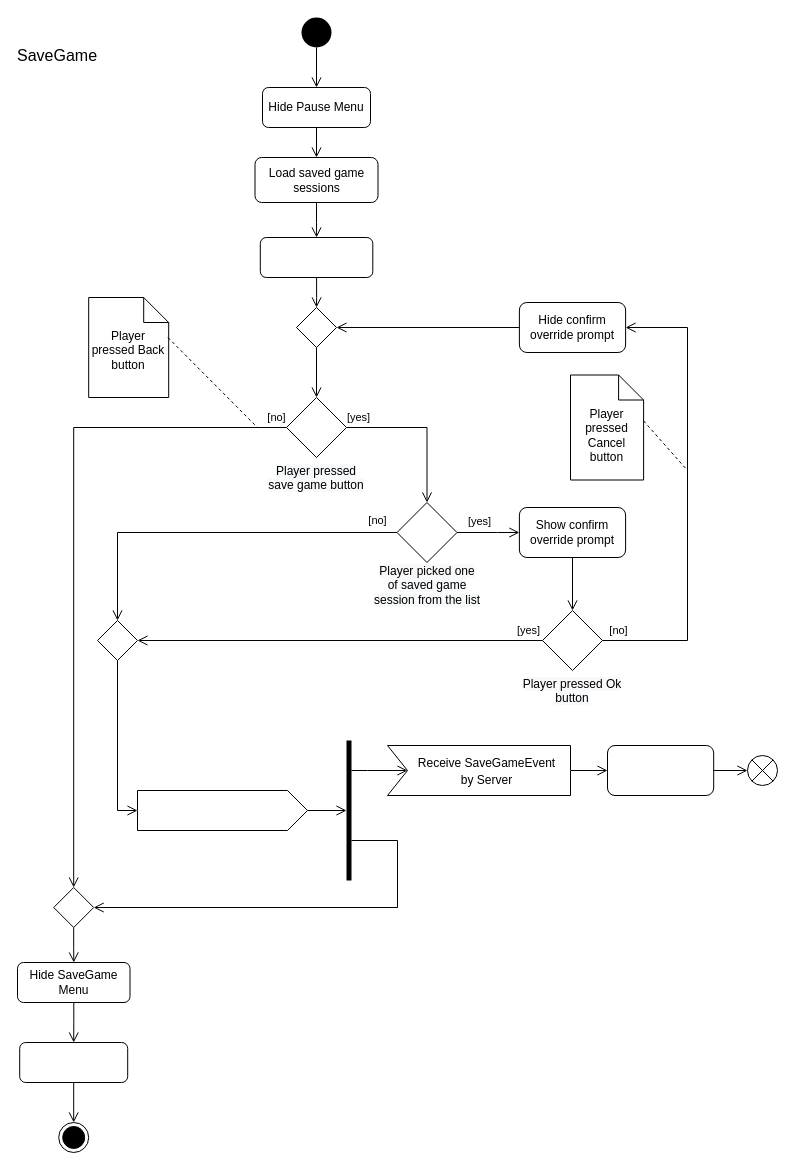
Image size: 795x1170. Some labels were removed from this diagram. The centre of each missing label's shape, as x and y in pixels:
Save current game session: the point at 660,770
Send SaveGameEvent: the point at 222,810
Show Pause Menu: the point at 73,1062
Show SaveGame Menu: the point at 316,257
